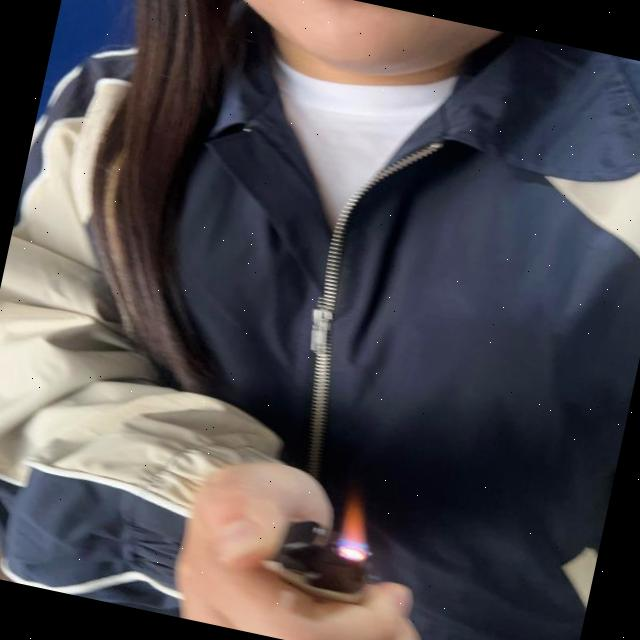fire: (332, 496, 378, 554)
